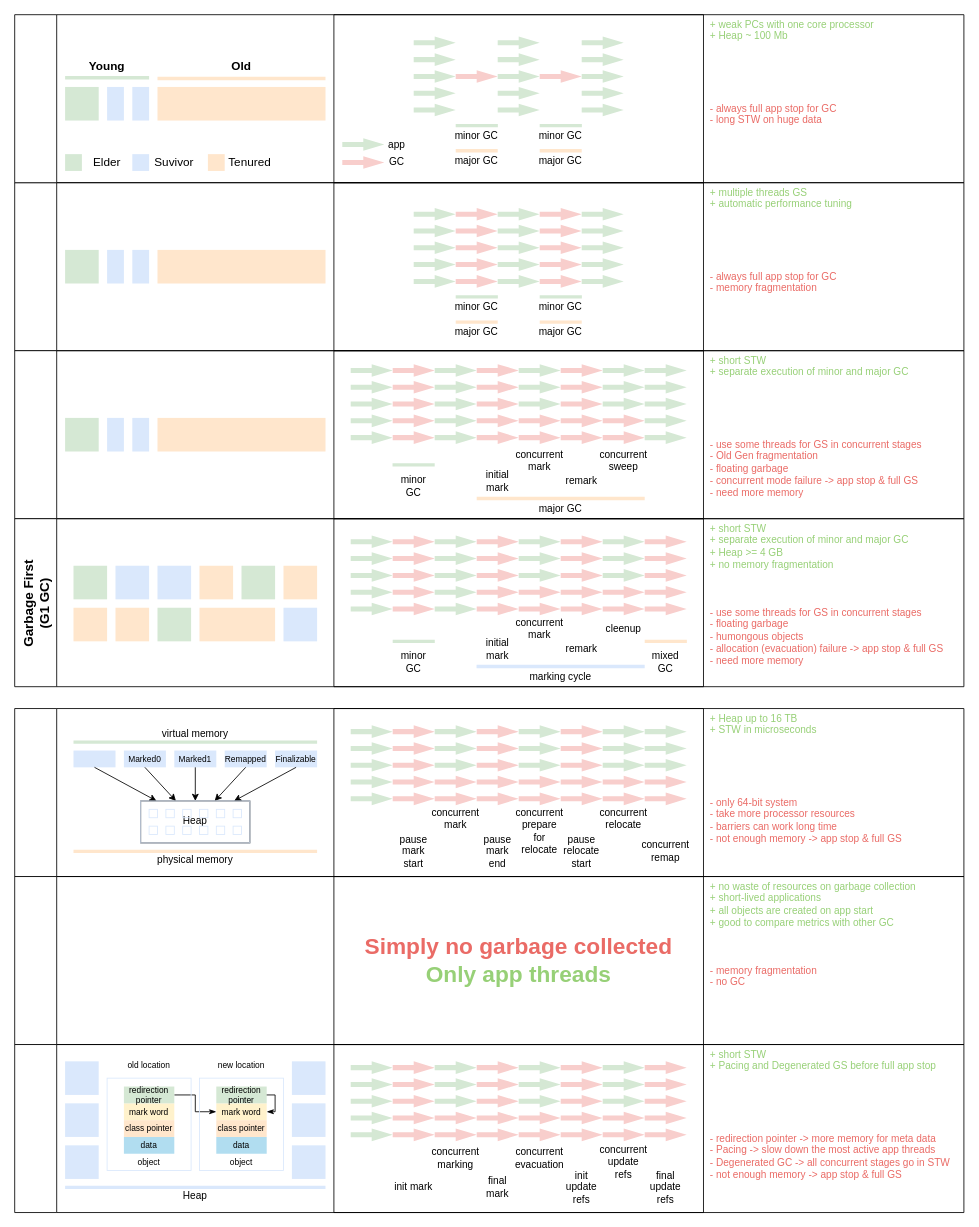
The diagram is 979 pixels wide and 1227 high, and some of its shapes have lost their labels. Here are the shapes that lost their labels. From the top down, the box of each, then its label:
(14, 14, 964, 183): Serial GC
(14, 182, 964, 351): Parallel GC
(14, 350, 964, 519): Concurrent Mark Sweep (CMS GC)
(199, 607, 275, 641): humongous
(14, 708, 964, 877): Z Garbage Collector (ZGC)
(14, 876, 964, 1045): Epsilon GC
(14, 1044, 964, 1213): Shenandoah GC
